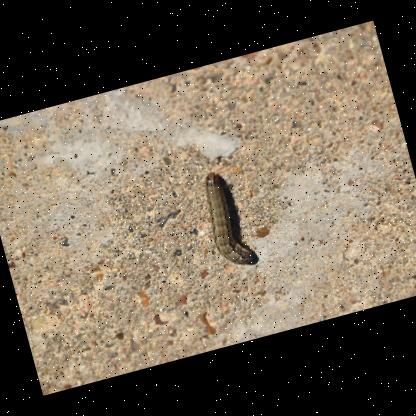Fall Armyworm Larvae: (194, 164, 260, 274)
